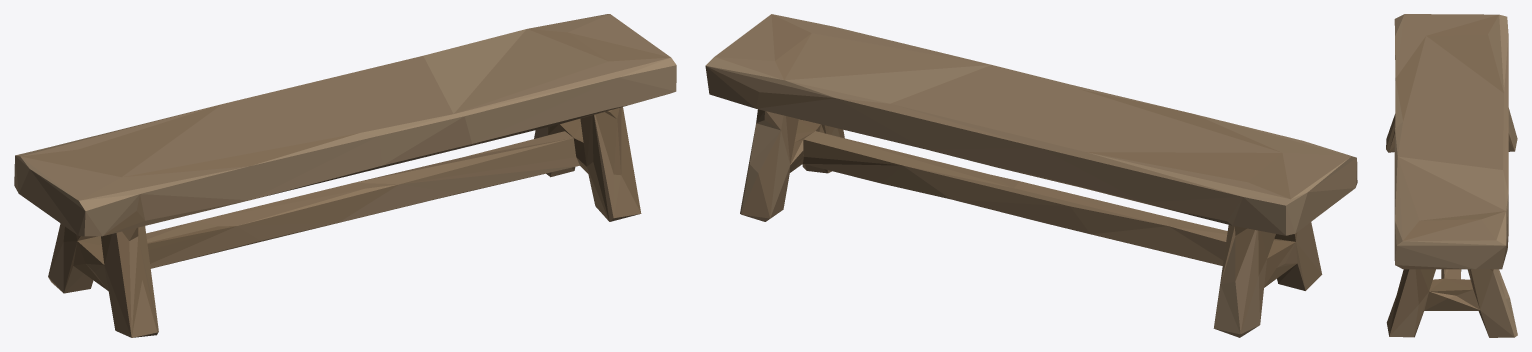
The model's file is bench.glb.
3 views of the same model, side by side, from view 1: azimuth 30°, elevation 25°; view 2: azimuth 150°, elevation 25°; view 3: azimuth 270°, elevation 25° (orthographic). The views are drawn at different scales.
Parts seen in each view (by area): view 1: Hull; view 2: Hull; view 3: Hull.
Part boxes in pixels (left/top/right/bottom): Hull: left=14, top=14, right=676, bottom=337; Hull: left=705, top=14, right=1357, bottom=337; Hull: left=1386, top=14, right=1517, bottom=337.
Bounding box in the file's own units: 1.98 × 0.46 × 0.4816.
